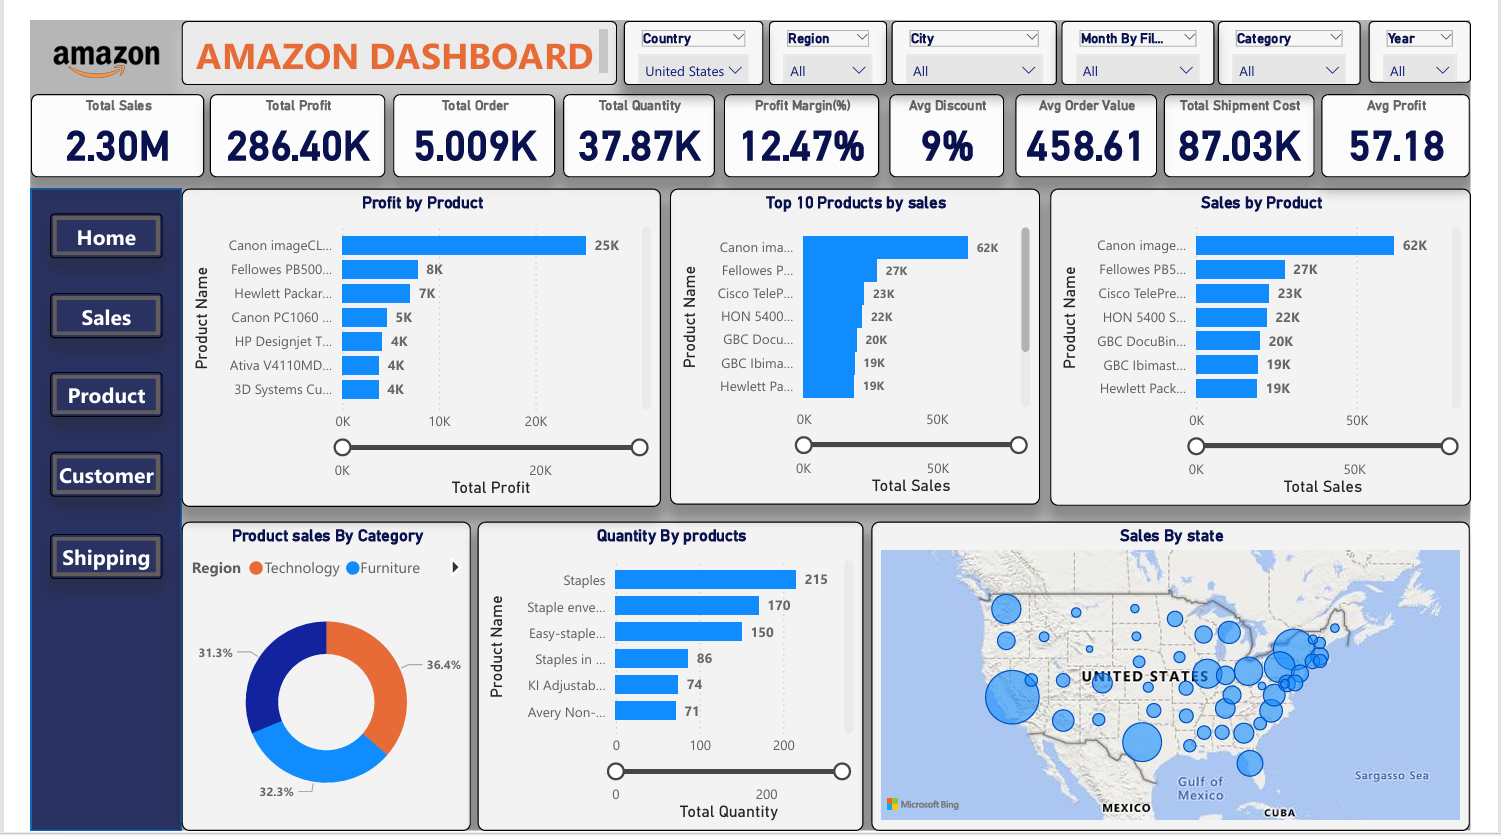

Layout of this report page (visuals, bound fields, positions):
{"tool":"powerbi","page":{"name":" Home ","canvas":[1280,720],"ordinal":0},"visuals":[{"type":"shape","box":[0,65.6,134.4,654.4],"z":0},{"type":"textbox","box":[134,0,387,57],"z":1000},{"type":"card","title":"Total Sales","fields":{"Values":["All Mesure.Total Sales"]},"box":[133.8,65,153.8,73.8],"z":2000},{"type":"card","title":"Total Profit","fields":{"Values":["All Mesure.Total Profit"]},"box":[293.8,65,156.2,73.8],"z":3000},{"type":"card","title":"Total Quantity","fields":{"Values":["All Mesure.Total Quantity"]},"box":[617.5,65,135,73.8],"z":4000},{"type":"card","title":"Total Order","fields":{"Values":["All Mesure.Total Ordes"]},"box":[461.2,65,143.8,73.8],"z":5000},{"type":"card","title":"Profit Margin(%)","fields":{"Values":["All Mesure.Profit Margin %"]},"box":[761.2,65,136.2,73.8],"z":6000},{"type":"card","title":"Avg Discount","fields":{"Values":["All Mesure.Avg Discount"]},"box":[906.2,65,102.5,73.8],"z":7000},{"type":"card","title":"Total Shipment Cost","fields":{"Values":["All Mesure.Total Shipment Cost"]},"box":[1150,65,130,73.8],"z":8000},{"type":"card","title":"Avg Order Value","fields":{"Values":["All Mesure.Avg Order value"]},"box":[1015,65,126.2,73.8],"z":9000},{"type":"slicer","fields":{"Values":["Amazon Sales.Region"]},"box":[656,0,105,57],"z":10000},{"type":"slicer","fields":{"Values":["Amazon Sales.Year"]},"box":[1189,0,91,55],"z":11000},{"type":"slicer","fields":{"Values":["Amazon Sales.Category"]},"box":[1055,0,127,57],"z":12000},{"type":"slicer","fields":{"Values":["Amazon Sales.City"]},"box":[765,0,147,57],"z":13000},{"type":"slicer","fields":{"Values":["Amazon Sales.Country"]},"box":[527,0,124,57],"z":14000},{"type":"slicer","fields":{"Values":["Amazon Sales.Month Name"]},"box":[916,0,136,57],"z":15000},{"type":"lineChart","title":"Daily Sales Trend","fields":{"Category":["Amazon Sales.Order Date.Variation.Date Hierarchy.Day"],"Y":["All Mesure.Total Sales"]},"box":[134.3,151.4,540,282.9],"z":16000},{"type":"donutChart","fields":{"Category":["Amazon Sales.Region"],"Y":["All Mesure.Total Sales"]},"box":[134.3,445.7,540,274.3],"z":17000},{"type":"clusteredBarChart","title":"Total Sales by City and Category Top (10)","fields":{"Category":["Amazon Sales.City"],"Series":["Amazon Sales.Category"],"Y":["All Mesure.Total Sales"]},"box":[685.7,445.7,594.3,274.3],"z":18000},{"type":"clusteredColumnChart","title":"Total Profit by Quarter and Category Top (10)","fields":{"Y":["All Mesure.Total Profit"],"Category":["Amazon Sales.Order Date.Variation.Date Hierarchy.Quarter"],"Series":["Amazon Sales.Category"]},"box":[685.7,151.4,594.3,282.9],"z":19000},{"type":"actionButton","box":[16.7,242.2,100,40],"z":20000},{"type":"actionButton","box":[16.7,171.1,100,40],"z":21000},{"type":"actionButton","box":[16.7,312.2,100,40],"z":22000},{"type":"actionButton","box":[16.7,383.3,100,40],"z":23000},{"type":"actionButton","box":[16.7,455.6,100,40],"z":24000},{"type":"image","box":[0,0,134.4,65.6],"z":25000}]}

Visuals, with their boxes in screenshot pixels (x1, y1, x2, y2), scaled from the page's 1280x720 canvas onto the 1501x836 screenshot:
shape: x1=0 y1=76 x2=158 y2=835
textbox: x1=157 y1=0 x2=611 y2=66
"Total Sales" card: x1=157 y1=75 x2=337 y2=161
"Total Profit" card: x1=345 y1=75 x2=528 y2=161
"Total Quantity" card: x1=724 y1=75 x2=882 y2=161
"Total Order" card: x1=541 y1=75 x2=709 y2=161
"Profit Margin(%)" card: x1=893 y1=75 x2=1052 y2=161
"Avg Discount" card: x1=1063 y1=75 x2=1183 y2=161
"Total Shipment Cost" card: x1=1349 y1=75 x2=1500 y2=161
"Avg Order Value" card: x1=1190 y1=75 x2=1338 y2=161
slicer - Amazon Sales.Region: x1=769 y1=0 x2=892 y2=66
slicer - Amazon Sales.Year: x1=1394 y1=0 x2=1500 y2=64
slicer - Amazon Sales.Category: x1=1237 y1=0 x2=1386 y2=66
slicer - Amazon Sales.City: x1=897 y1=0 x2=1069 y2=66
slicer - Amazon Sales.Country: x1=618 y1=0 x2=763 y2=66
slicer - Amazon Sales.Month Name: x1=1074 y1=0 x2=1234 y2=66
"Daily Sales Trend" lineChart: x1=157 y1=176 x2=791 y2=504
donutChart - Amazon Sales.Region x All Mesure.Total Sales: x1=157 y1=518 x2=791 y2=835
"Total Sales by City and Category Top (10)" clusteredBarChart: x1=804 y1=518 x2=1500 y2=835
"Total Profit by Quarter and Category Top (10)" clusteredColumnChart: x1=804 y1=176 x2=1500 y2=504
actionButton: x1=20 y1=281 x2=137 y2=328
actionButton: x1=20 y1=199 x2=137 y2=245
actionButton: x1=20 y1=362 x2=137 y2=409
actionButton: x1=20 y1=445 x2=137 y2=491
actionButton: x1=20 y1=529 x2=137 y2=575
image: x1=0 y1=0 x2=158 y2=76
